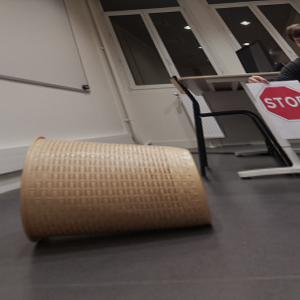medium: (18, 136, 212, 244)
